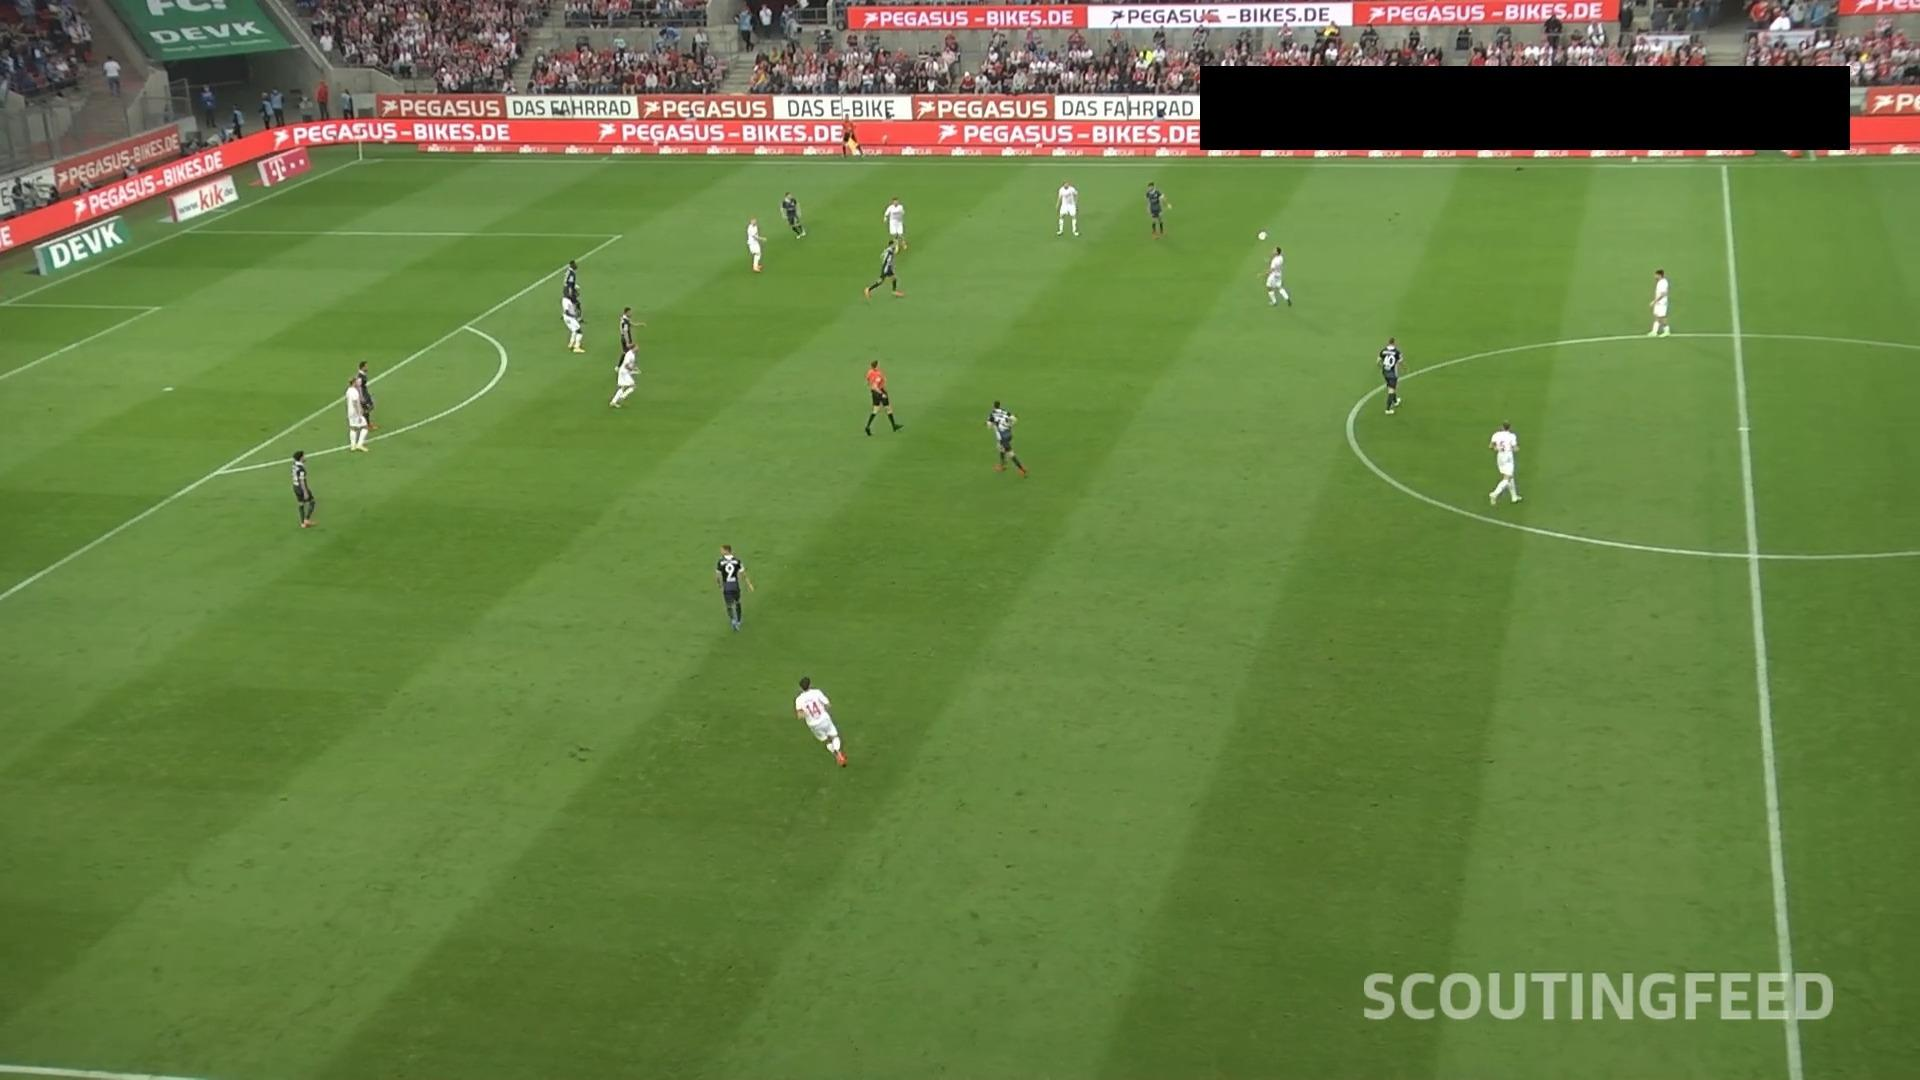ball: (1257, 229, 1269, 241)
